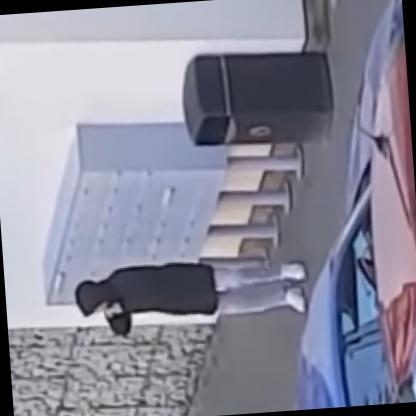Human Body: (65, 245, 314, 345)
